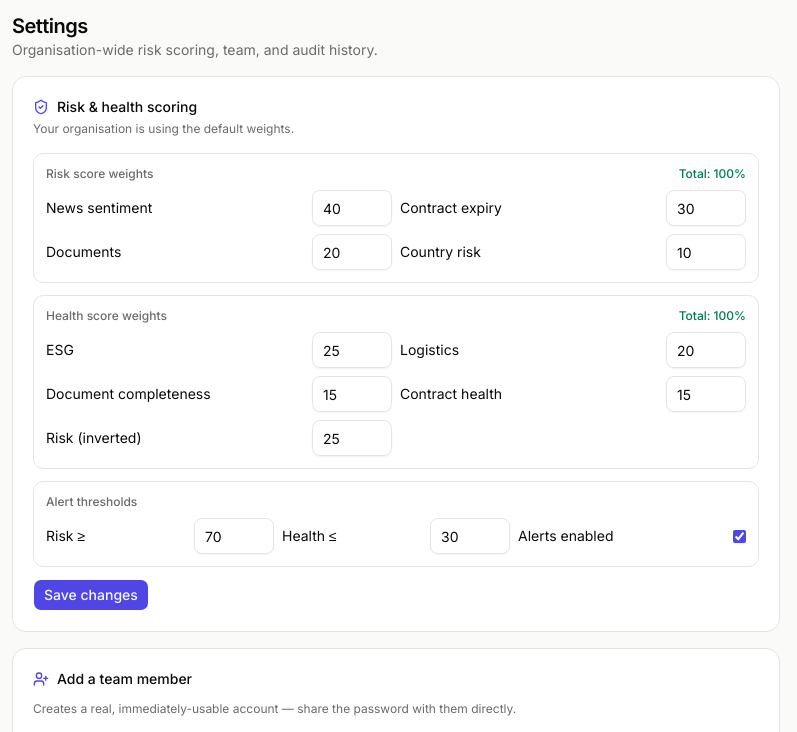
Test case: Settings > risk config weight-sum validation › editing a weight away from 100% shows the warning and disables Save
Check: the text "Total: 100%" is shown 2 times, box x1=679 y1=166 x2=746 y2=182; x1=679 y1=308 x2=746 y2=324
Step 1. Replace the text in the number field labelled "News sentiment" with "90" → (352, 208), box x1=312 y1=190 x2=392 y2=226
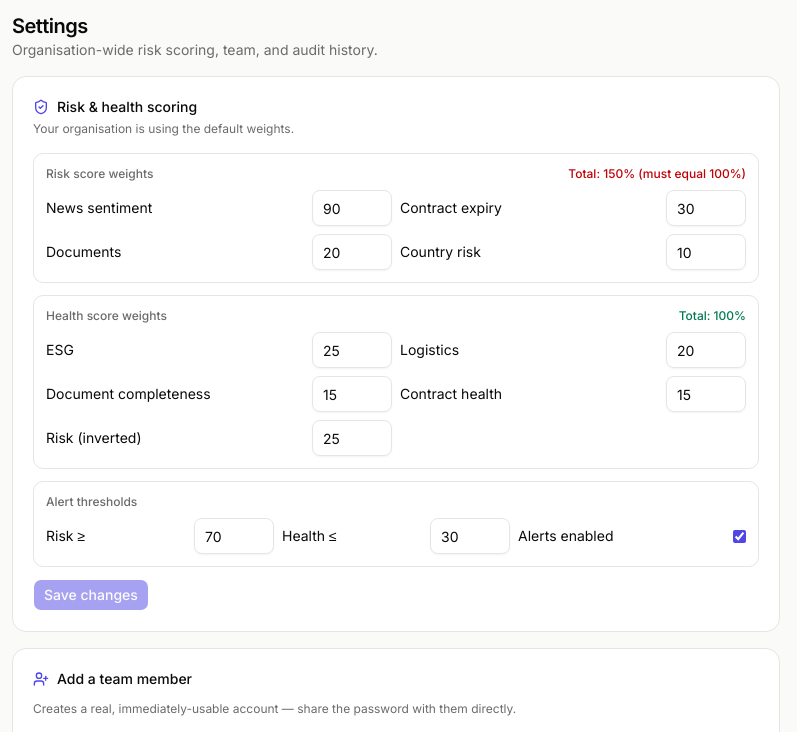
Check: the text "Total: 150% (must equal 100%)" is shown, box x1=568 y1=166 x2=746 y2=182
Check: the button "Save changes" is disabled, box x1=33 y1=579 x2=149 y2=611
